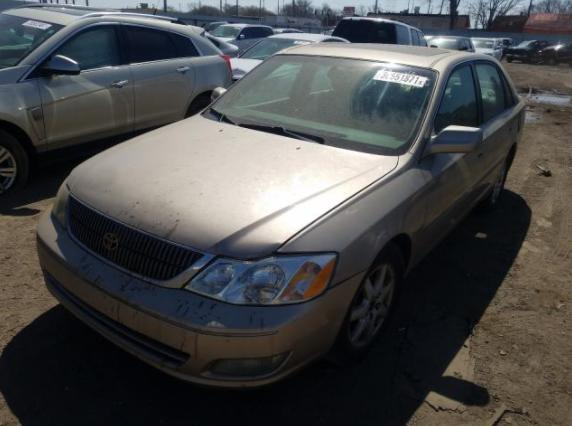Back-door: (470, 57, 520, 192)
Back-wheel: (472, 152, 511, 214)
Back-window: (475, 63, 513, 123)
Fender: (274, 150, 428, 292)
Front-bumper: (33, 203, 369, 390)
Front-door: (407, 58, 487, 267)
Front-wheel: (326, 241, 405, 367)
Front-window: (433, 65, 477, 135)
Grille: (66, 194, 217, 289)
Headlight: (182, 254, 339, 306), (52, 174, 70, 230)
Hood: (67, 111, 410, 261)
Mirror: (419, 123, 484, 162), (209, 86, 228, 103)
Quarter-panel: (515, 95, 527, 152)
Rocker-panel: (402, 177, 496, 280)
Roof: (275, 41, 473, 70)
Windshield: (199, 53, 439, 156)
